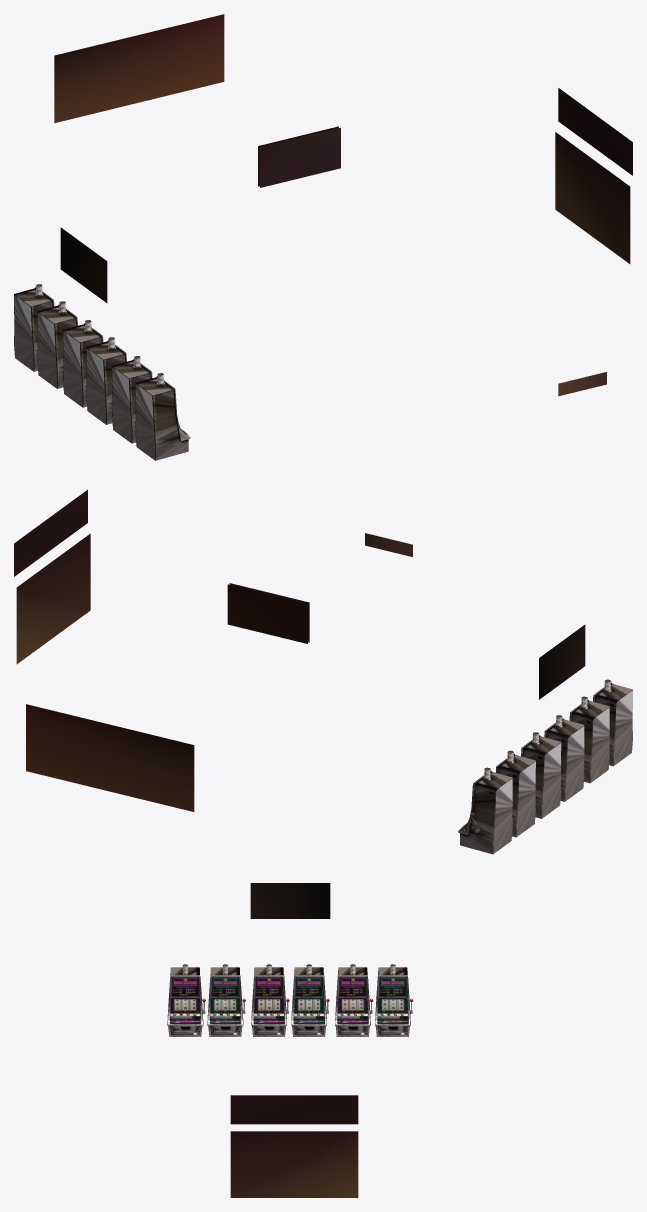
File: rug_room_props.fbx
The picture shows the model from 3 angles, top to bottom: view 1: azimuth 30°, elevation 25°; view 2: azimuth 150°, elevation 25°; view 3: azimuth 270°, elevation 25°; orthographic projection. The views are drawn at different scales.
Parts seen in each view (by area): view 1: rug_room_props; view 2: rug_room_props; view 3: rug_room_props.
Part boxes in pixels (bbox=[...]): rug_room_props: bbox=[14, 14, 632, 460]; rug_room_props: bbox=[14, 489, 632, 854]; rug_room_props: bbox=[167, 883, 413, 1197].
Size of the model in its own units: 12.75 by 4.26 by 15.52.
